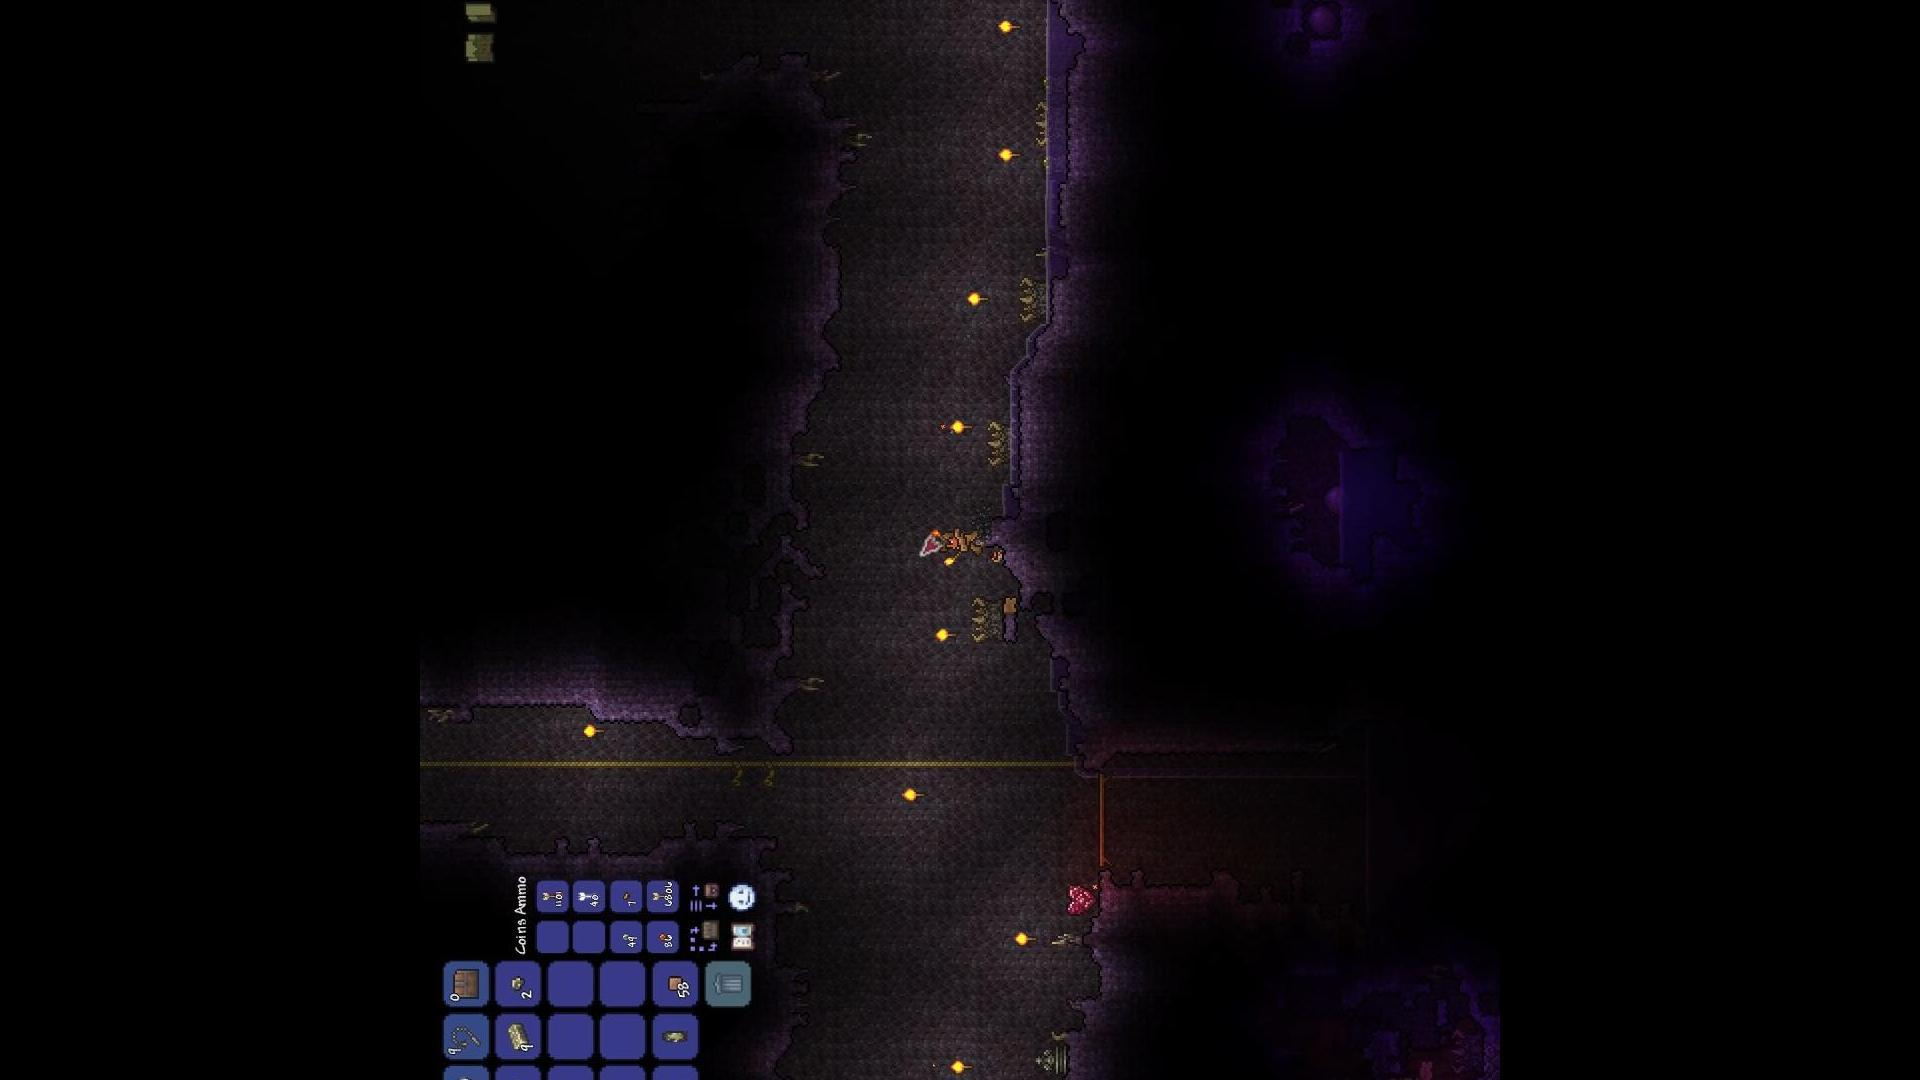lifeC: (1062, 884, 1096, 916)
